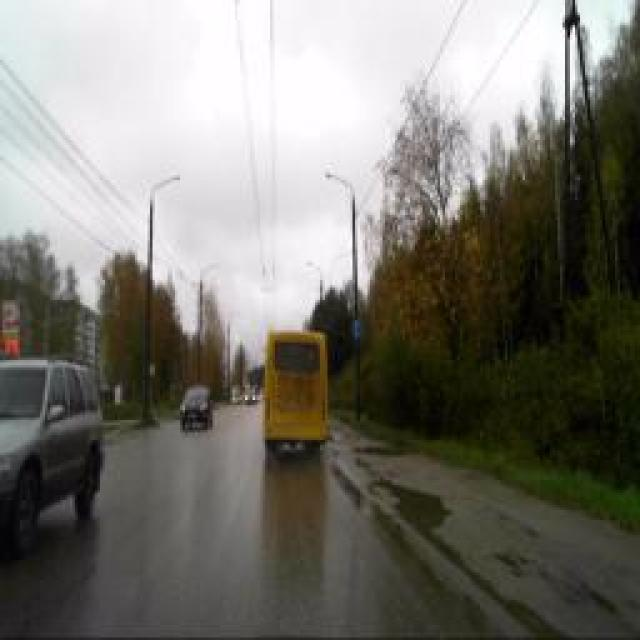sign: (350, 319, 362, 339)
